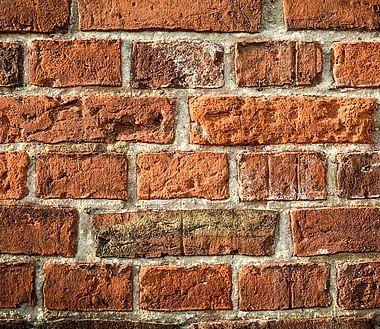brick: (184, 95, 380, 146), (90, 211, 282, 258), (1, 95, 179, 143), (79, 1, 264, 31), (137, 262, 234, 312), (42, 260, 133, 313), (130, 40, 224, 91), (28, 37, 122, 87), (137, 150, 231, 199), (238, 261, 332, 310), (34, 152, 129, 200), (287, 208, 379, 257), (239, 152, 330, 201), (233, 38, 320, 89), (1, 205, 81, 257), (283, 2, 380, 30), (329, 39, 380, 91), (3, 1, 70, 34), (334, 154, 380, 197), (336, 264, 380, 308), (1, 262, 35, 308), (1, 149, 29, 202), (1, 39, 23, 88)
